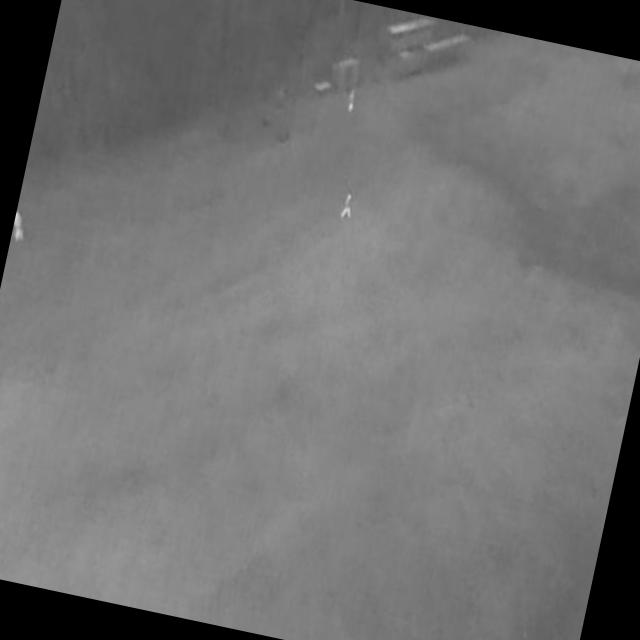person: (11, 211, 31, 246), (339, 191, 358, 222), (346, 92, 358, 114)
